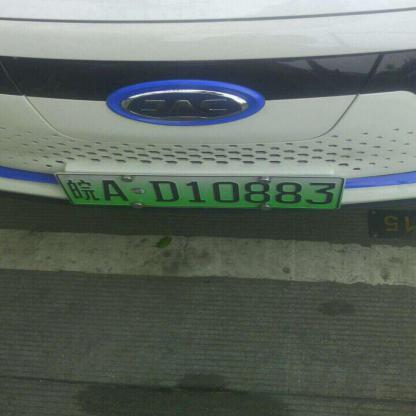lp: (58, 174, 342, 207)
